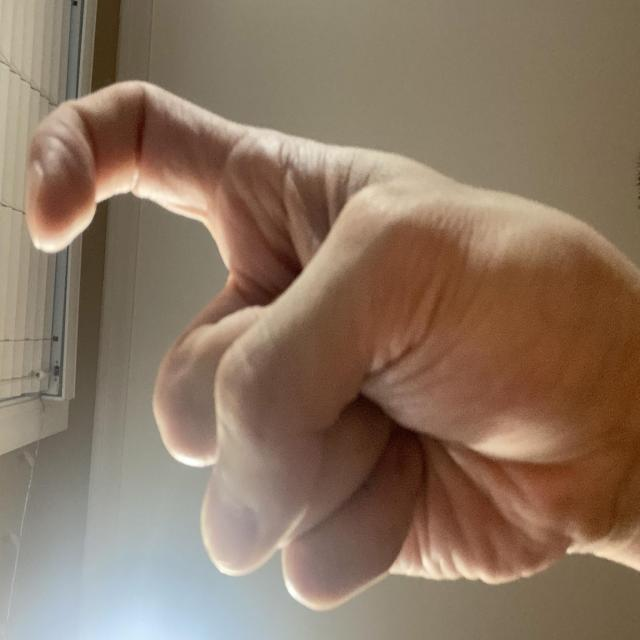X: (19, 24, 423, 640)
